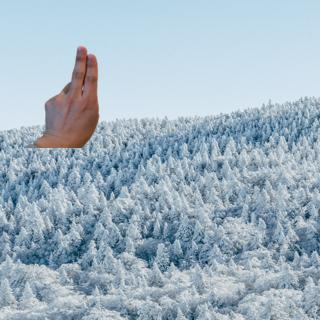DHAVE: (38, 40, 103, 144)
